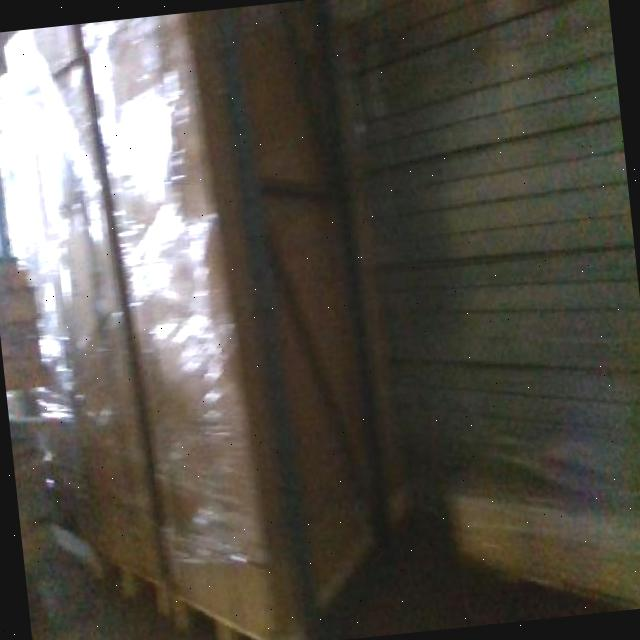pallet: (93, 541, 178, 636)
